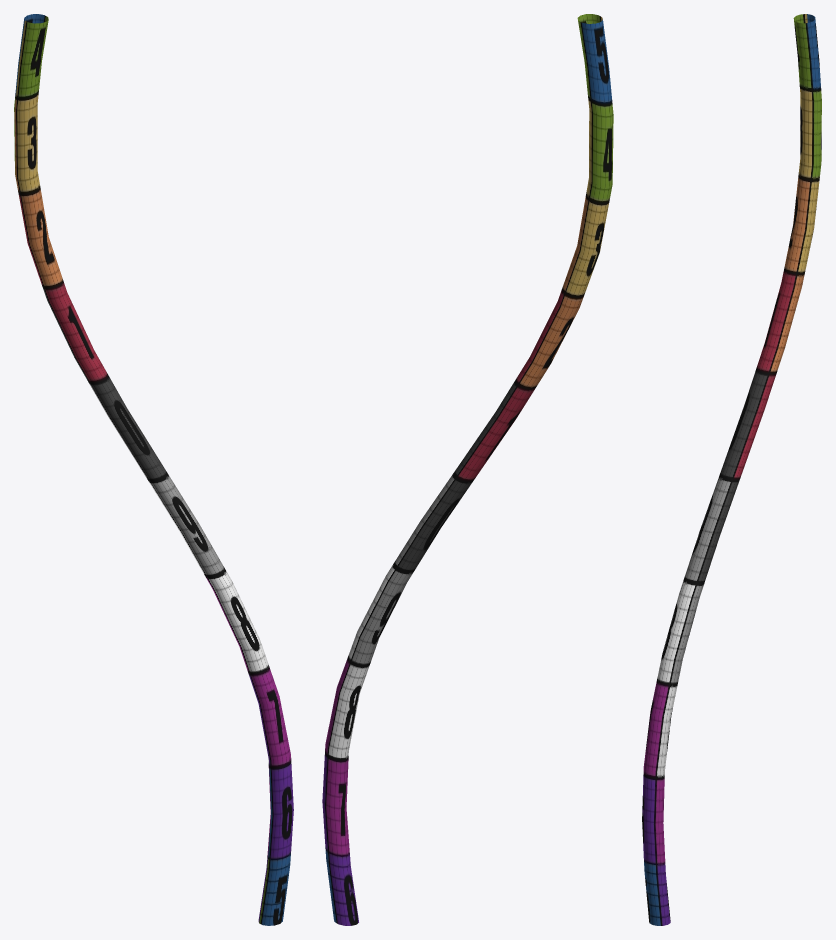
The model's file is Cable1.fbx.
The picture shows the model from 3 angles, left to right: view 1: azimuth 30°, elevation 25°; view 2: azimuth 210°, elevation 25°; view 3: azimuth 270°, elevation 25°; orthographic projection. The views are drawn at different scales.
Visible parts, largest first — view 1: Cable11; view 2: Cable11; view 3: Cable11.
Part boxes in pixels (<box>): Cable11: <box>14,14,293,925</box>; Cable11: <box>322,14,613,925</box>; Cable11: <box>642,14,821,925</box>.
Size of the model in its own units: 14.96 by 65.88 by 12.91.
Materials: 1 (1 with a texture image).
